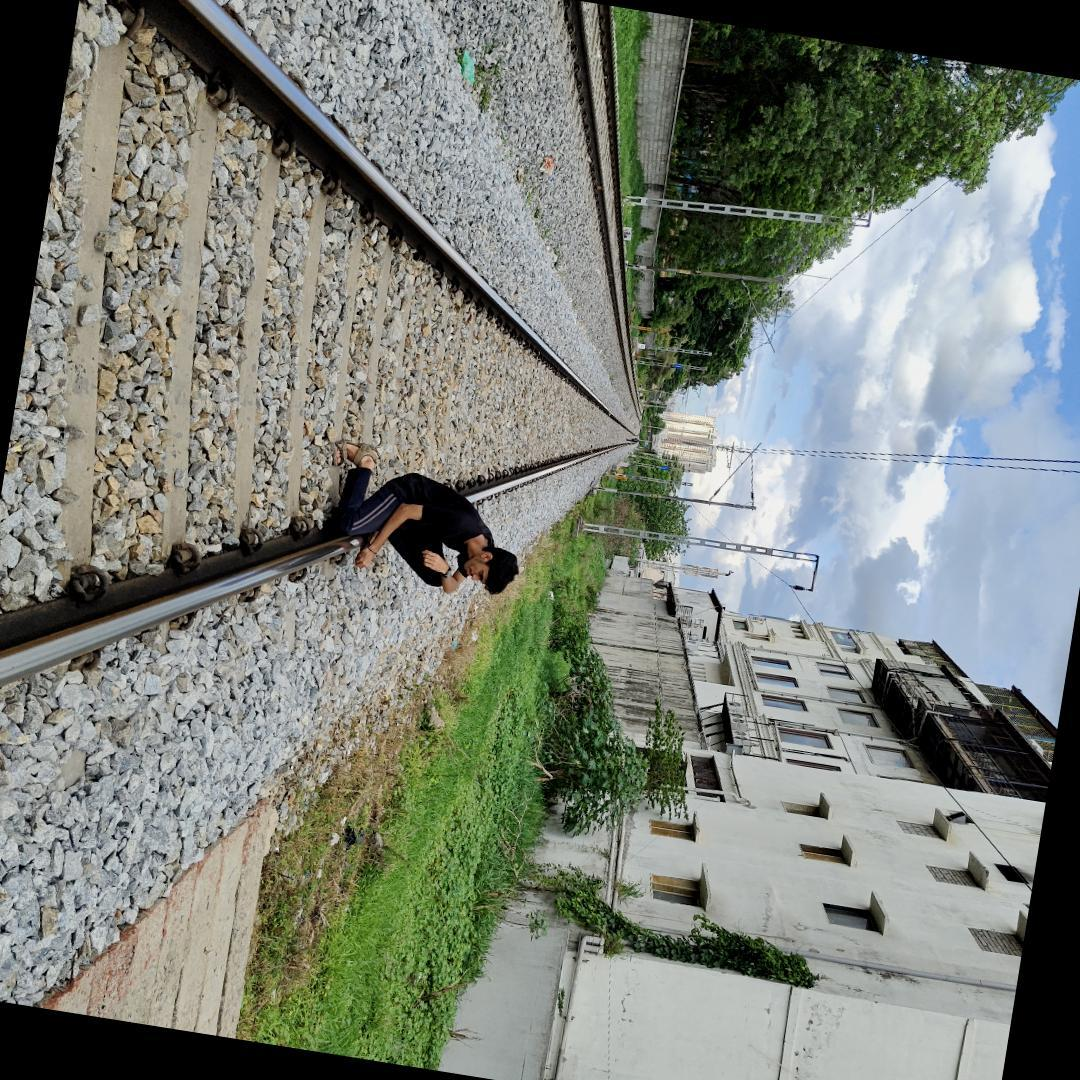sitting: (320, 441, 535, 610)
